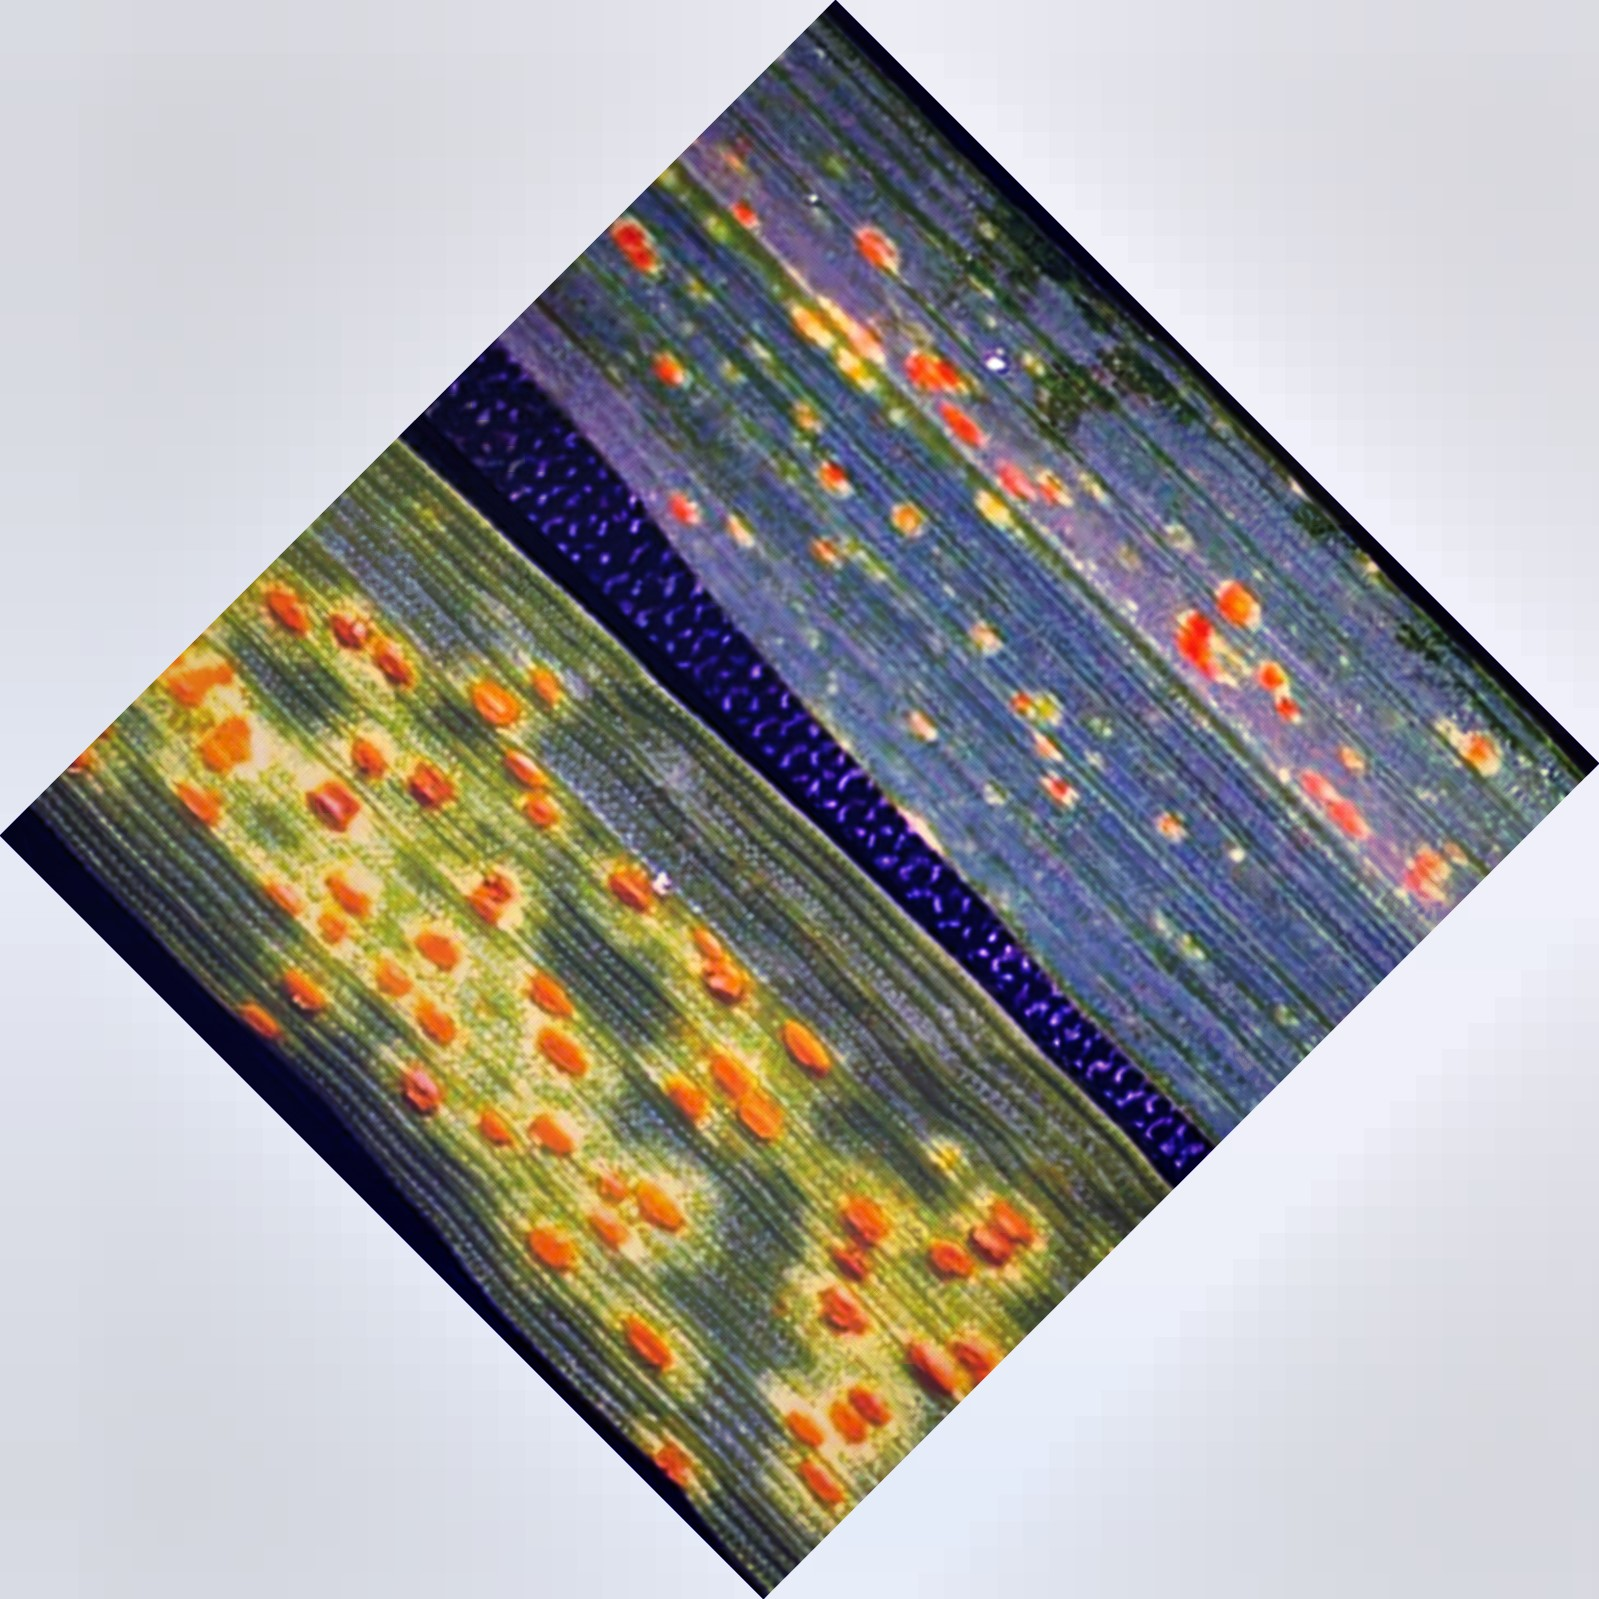Leaf Rust: (148, 619, 1029, 1428)
